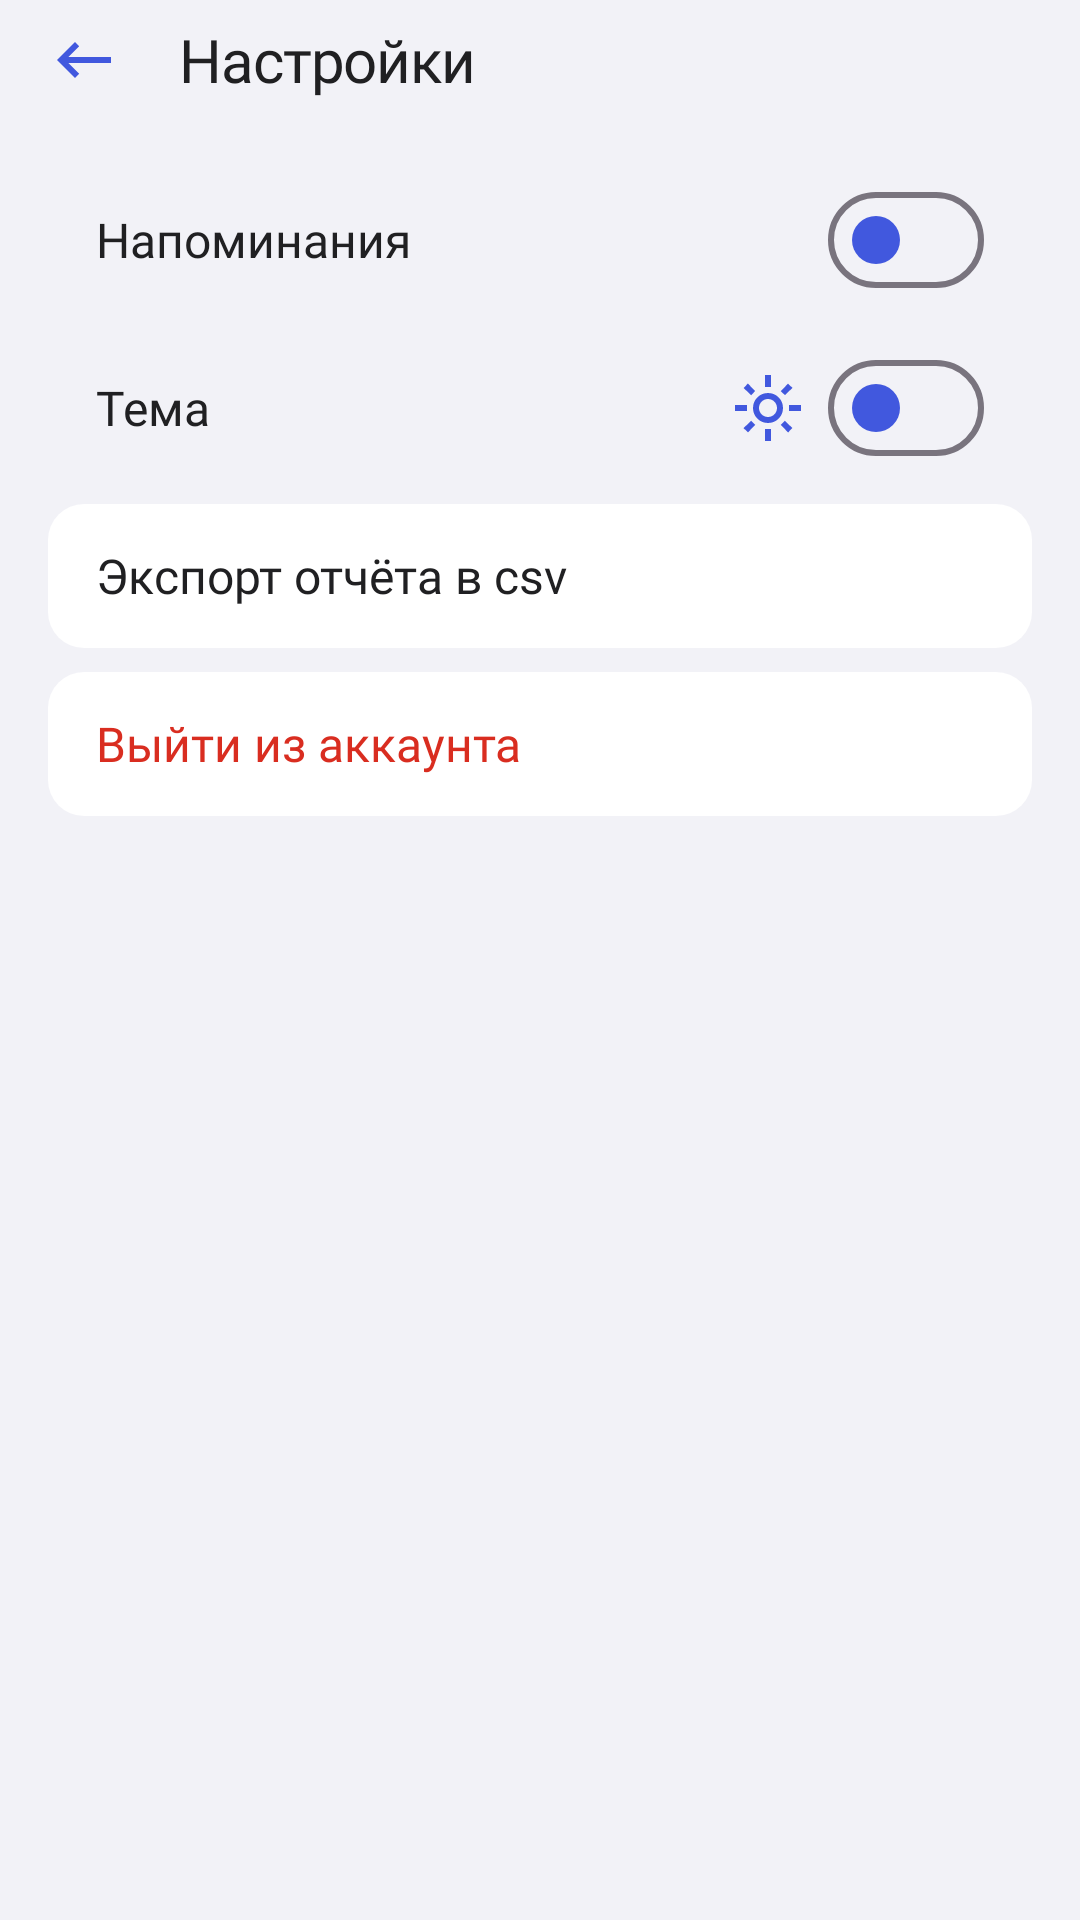

Icons on this 1080×1920 Android screen, each with its box as (x1, y1, x2, y2):
theme: (735, 375, 801, 441)
